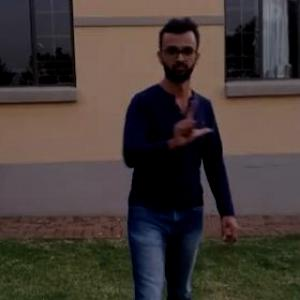land_hand: (166, 92, 215, 147)
